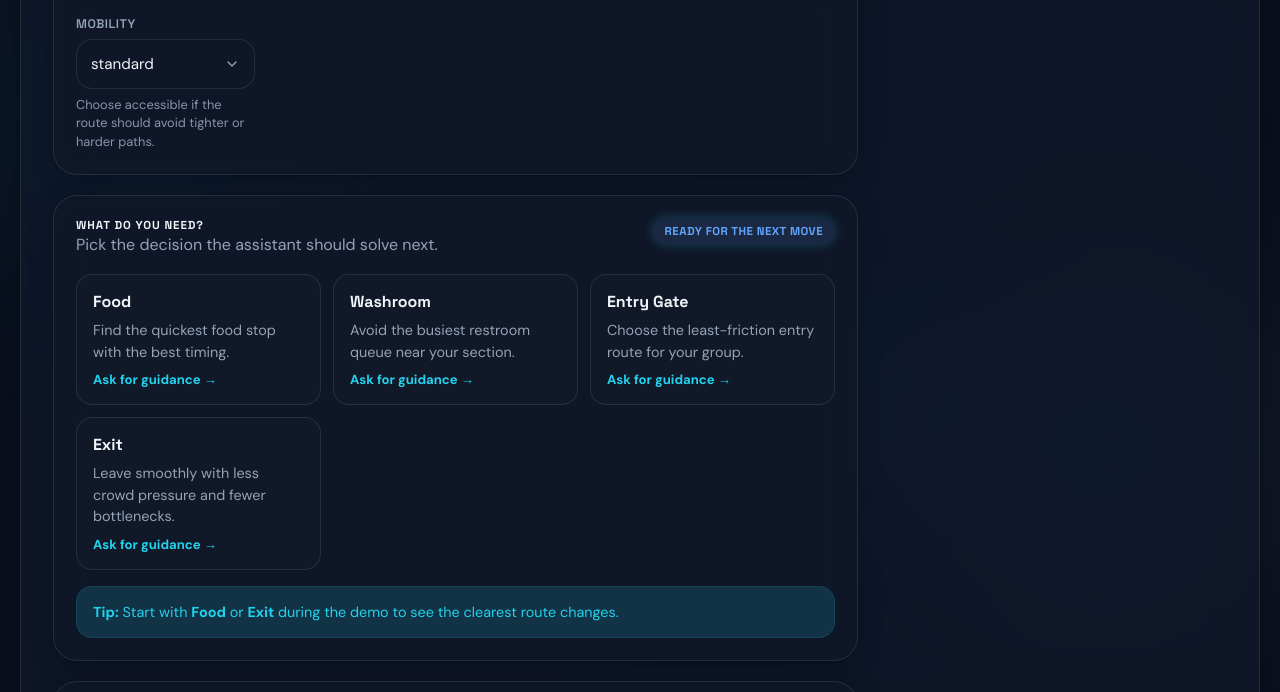
Test: App behavior › requests a quick action recommendation and renders it
(page scrolled)
Click the button that starts with "Food" at coordinates (198, 340), box [76,274,321,405]
(page scrolled)
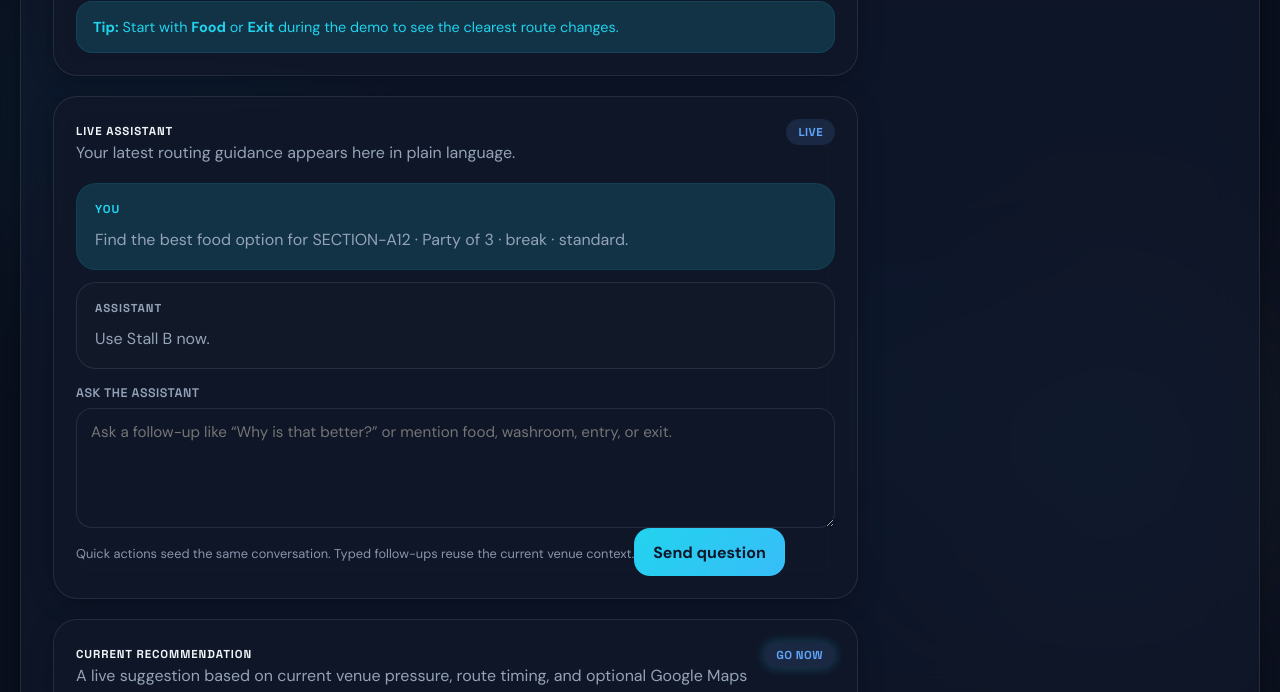
Expected: the text "Use Stall B now." is shown, [95,328,210,349]
